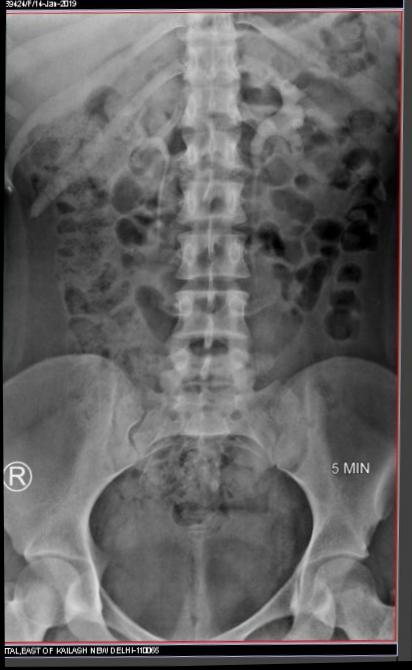vertebrae: (176, 129, 250, 179)
